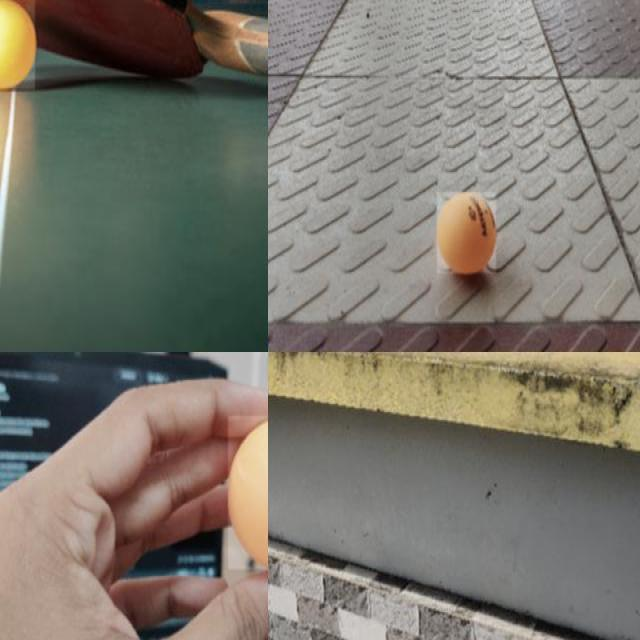ping-pong-ball: (227, 416, 267, 571), (437, 192, 497, 276), (0, 0, 37, 92)
